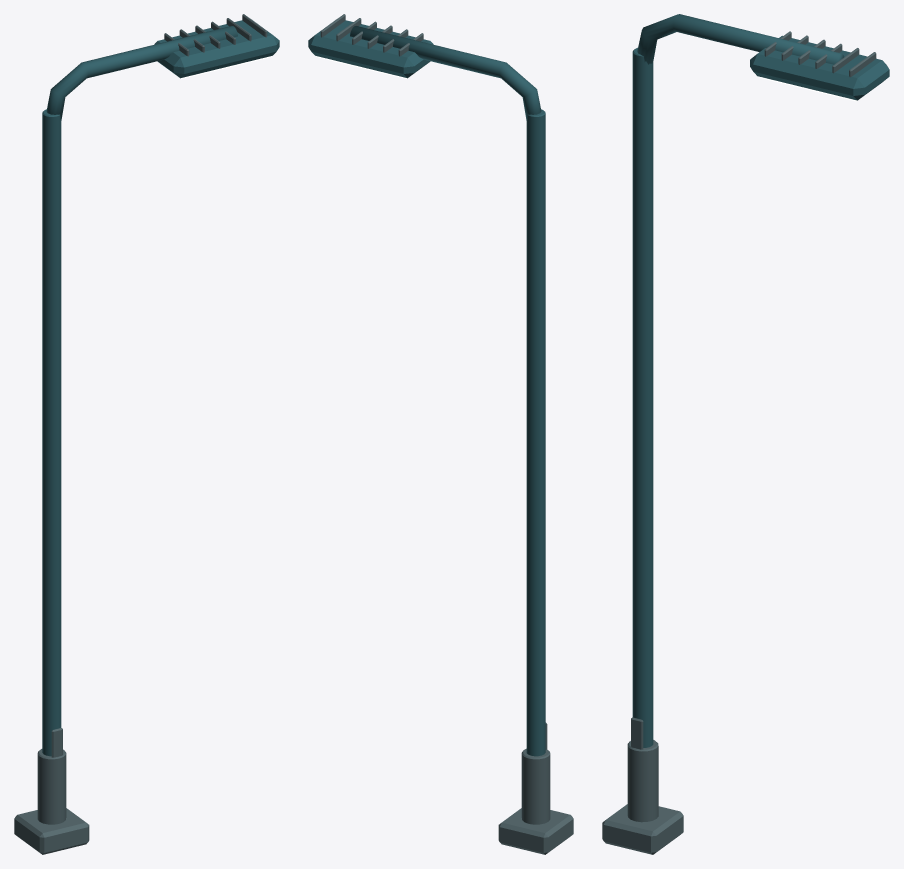
File: quay-lamp.glb
3 renders of one model, left to right at view 1: azimuth 30°, elevation 25°; view 2: azimuth 150°, elevation 25°; view 3: azimuth 330°, elevation 25°, orthographic. The views are drawn at different scales.
Visible parts, largest first — view 1: Tapered pole, Curved cantilever, Luminaire housing, Pole footing, Base collar; view 2: Tapered pole, Curved cantilever, Luminaire housing, Pole footing, Base collar; view 3: Tapered pole, Luminaire housing, Curved cantilever, Pole footing, Base collar.
Boxes of the visible parts, <box> form: Tapered pole: <box>42,109,61,756</box>; Curved cantilever: <box>46,26,237,120</box>; Luminaire housing: <box>154,20,279,78</box>; Pole footing: <box>14,808,89,854</box>; Base collar: <box>37,749,66,824</box>; Tapered pole: <box>526,109,545,756</box>; Curved cantilever: <box>350,26,541,120</box>; Luminaire housing: <box>308,20,433,78</box>; Pole footing: <box>498,808,573,854</box>; Base collar: <box>521,748,550,824</box>; Tapered pole: <box>632,47,653,747</box>; Luminaire housing: <box>750,35,889,100</box>; Curved cantilever: <box>637,14,844,64</box>; Pole footing: <box>602,804,683,854</box>; Base collar: <box>627,740,658,822</box>.
Bounding box in the file's own units: 2.32 × 7.07 × 0.51.
